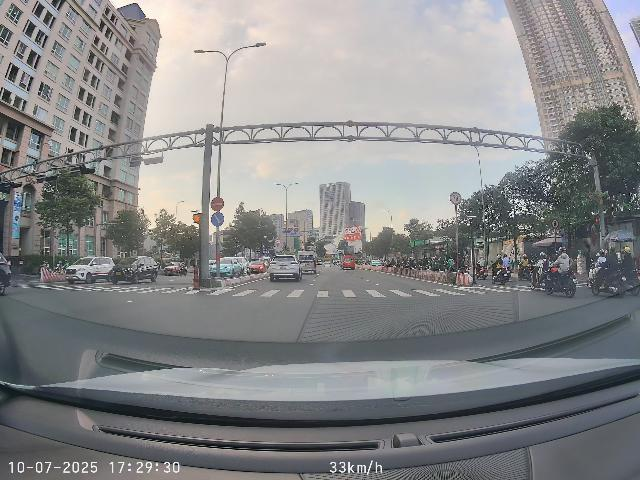102-cam-di-nguoc-chieu: (211, 197, 224, 211)
127-toc-do-toi-da-60: (551, 218, 559, 229)
127-toc-do-toi-da-70: (450, 192, 462, 205)
302a-huong-phai-di-vong-chuong-ngai-vat-1: (211, 213, 224, 226)
